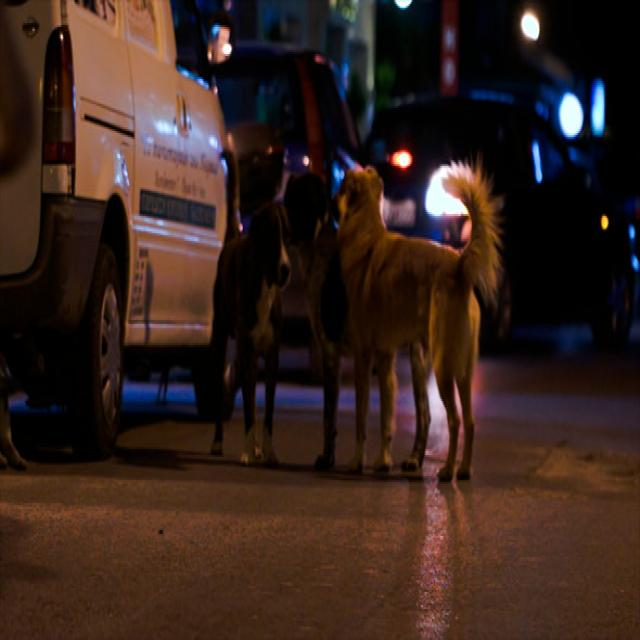dog: (326, 160, 547, 491), (190, 143, 310, 449)
